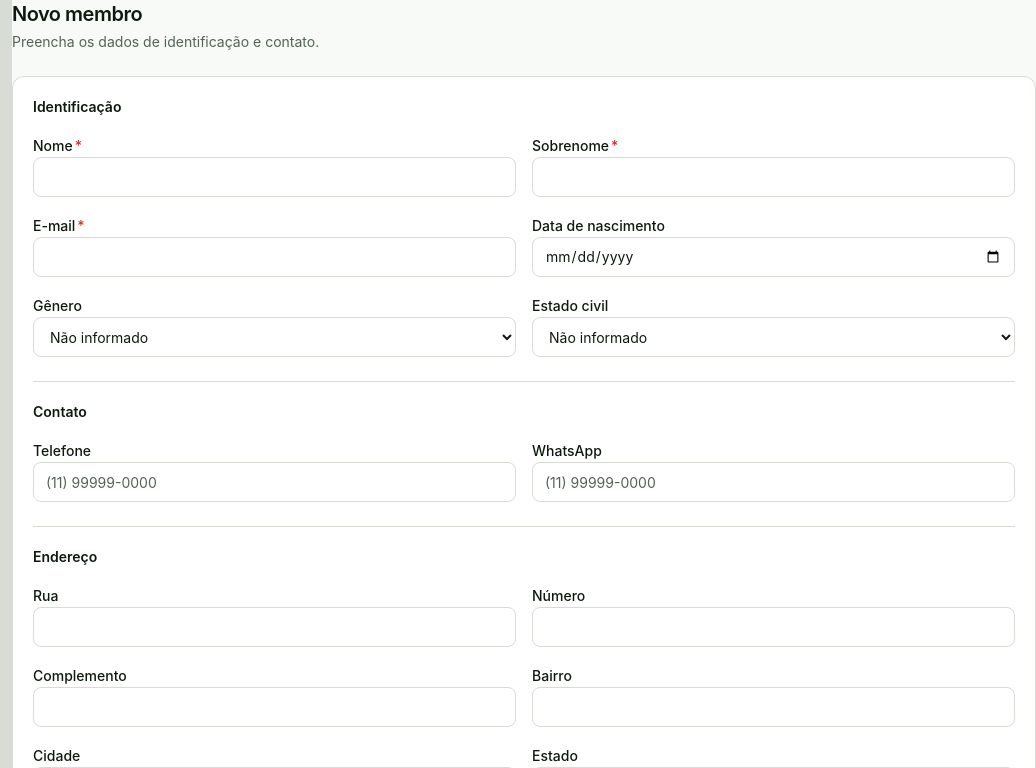
formulário de membro › mostra o erro de validação da API no campo correspondente
Type "Maria" into the field labelled "Nome*".
click(274, 177); type("Maria")  # box [33,157,516,197]
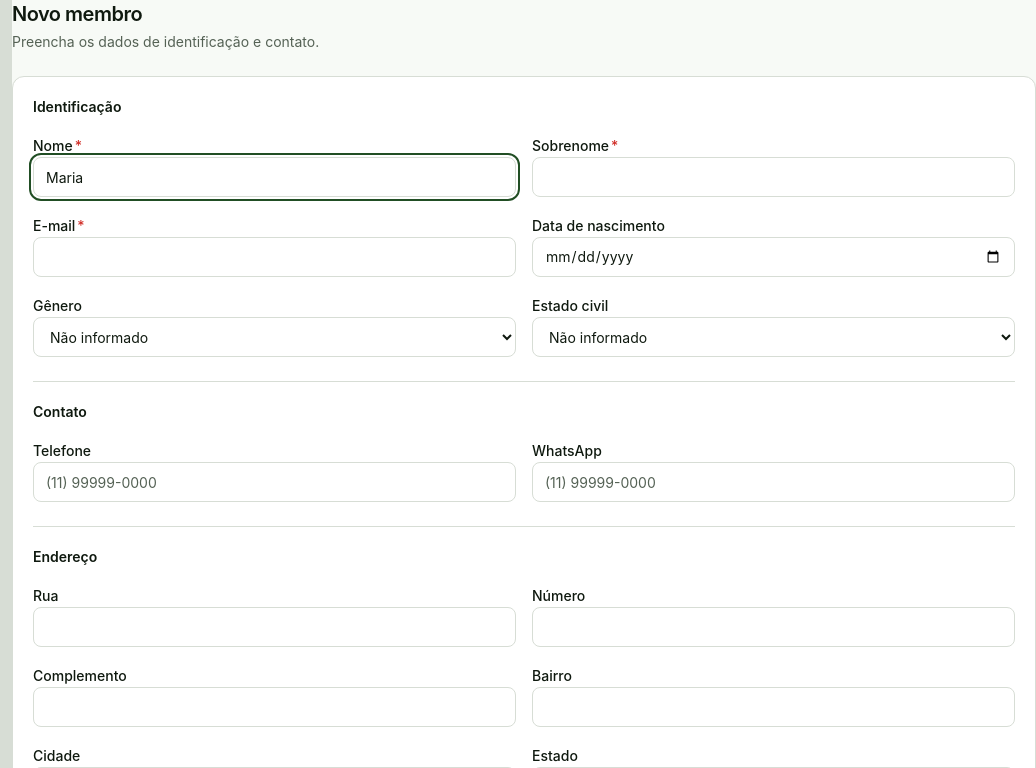
Type "Souza" into the field labelled "Sobrenome*".
click(774, 177); type("Souza")  # box [532,157,1015,197]
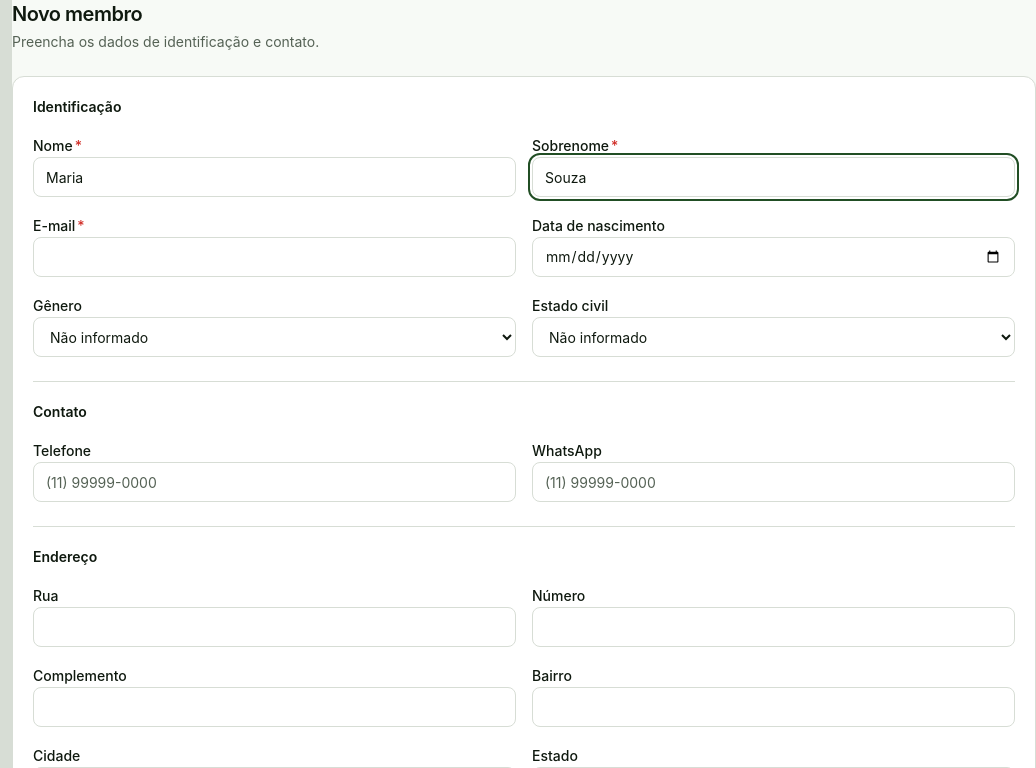
Type "maria@exemplo.com" into the field labelled "E-mail*".
click(274, 257); type("maria@exemplo.com")  # box [33,237,516,277]
(page scrolled)
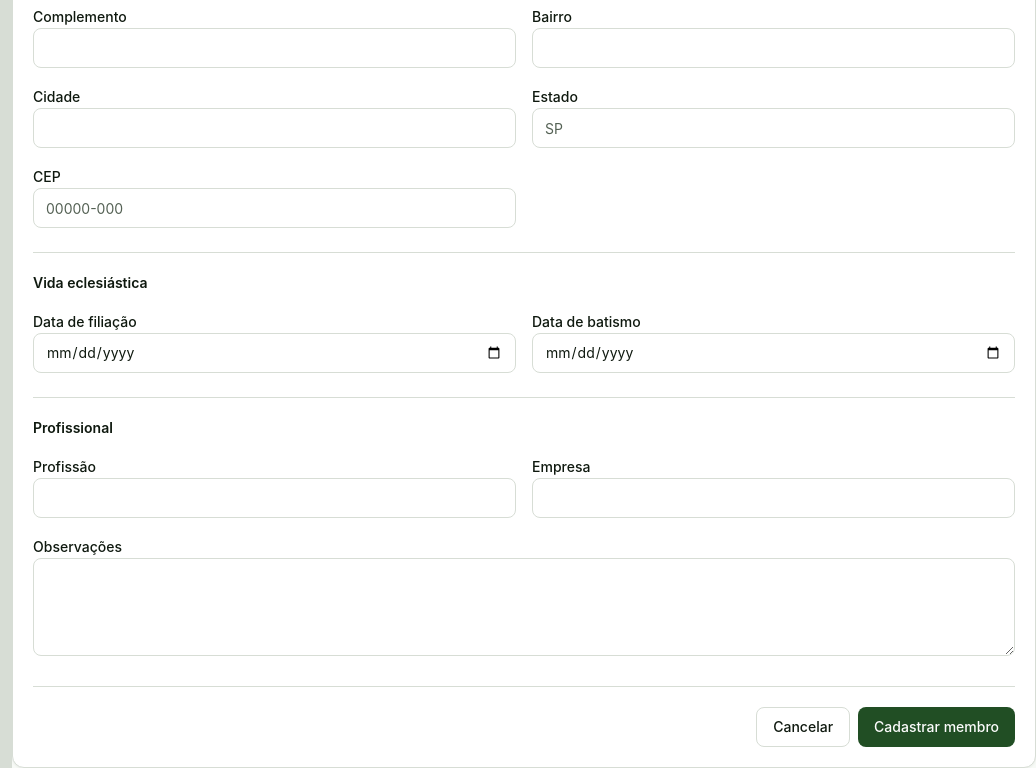
Click the button "Cadastrar membro".
click(937, 727)  # box [858,707,1015,747]
(page scrolled)
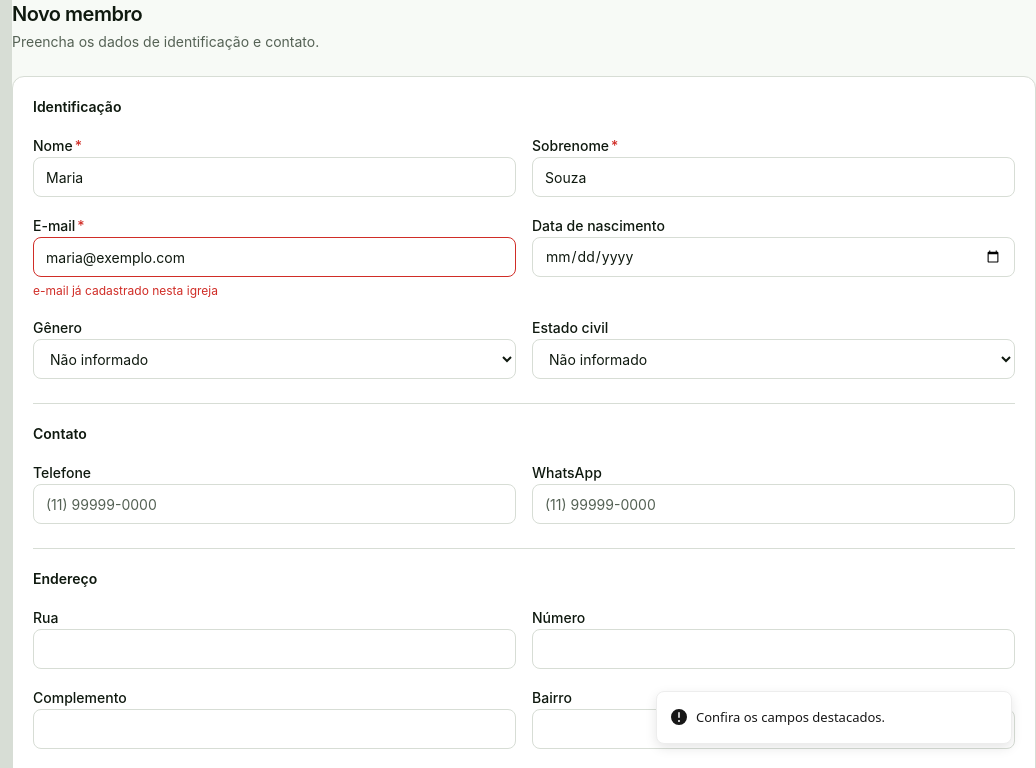
expect the text "e-mail já cadastrado nesta igreja" is shown: met, box [33,283,218,298]
